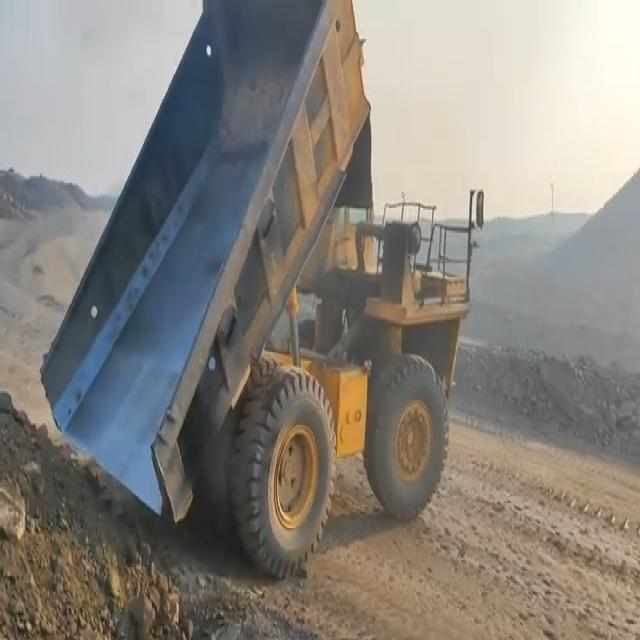dump_truck: (41, 0, 482, 573)
